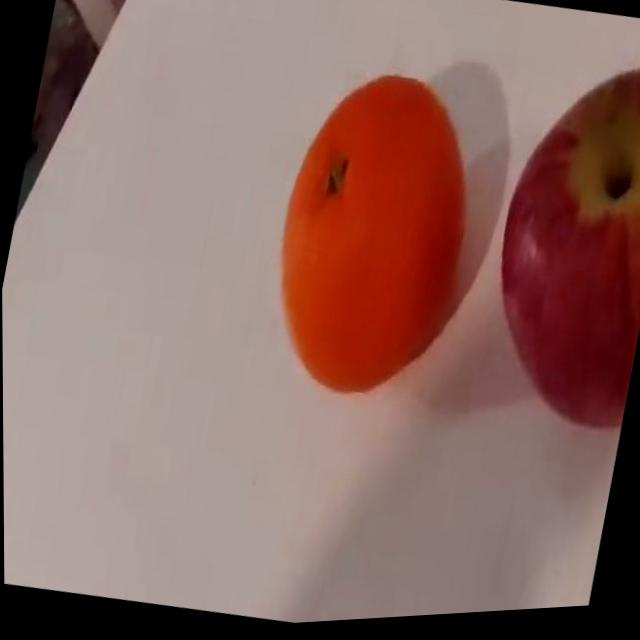Apple: (467, 51, 640, 446)
Orange: (253, 57, 498, 419)
